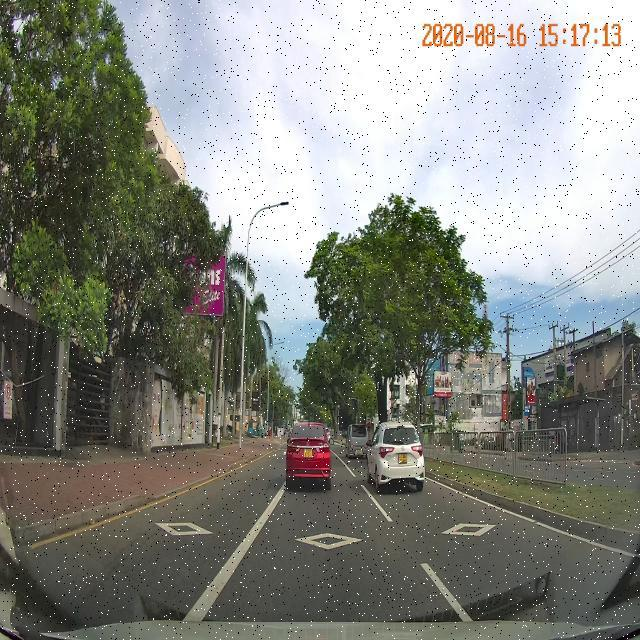diamond: (227, 531, 423, 558)
